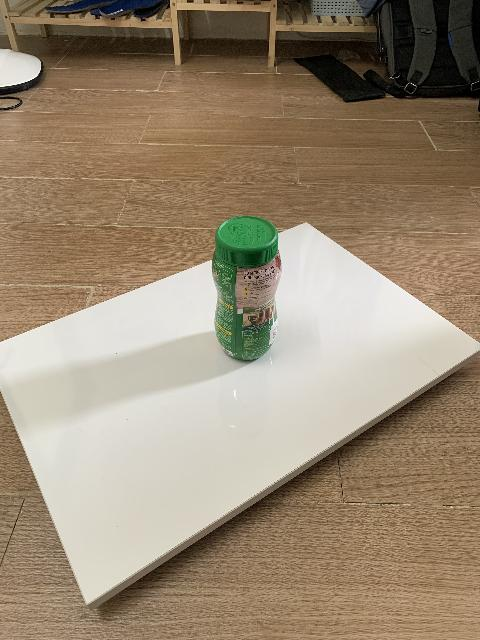milo: (211, 216, 282, 363)
